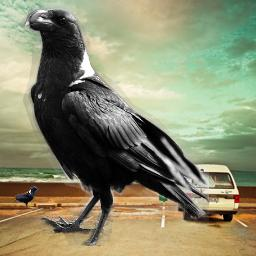Crow: (19, 4, 209, 246), (15, 186, 39, 207)
